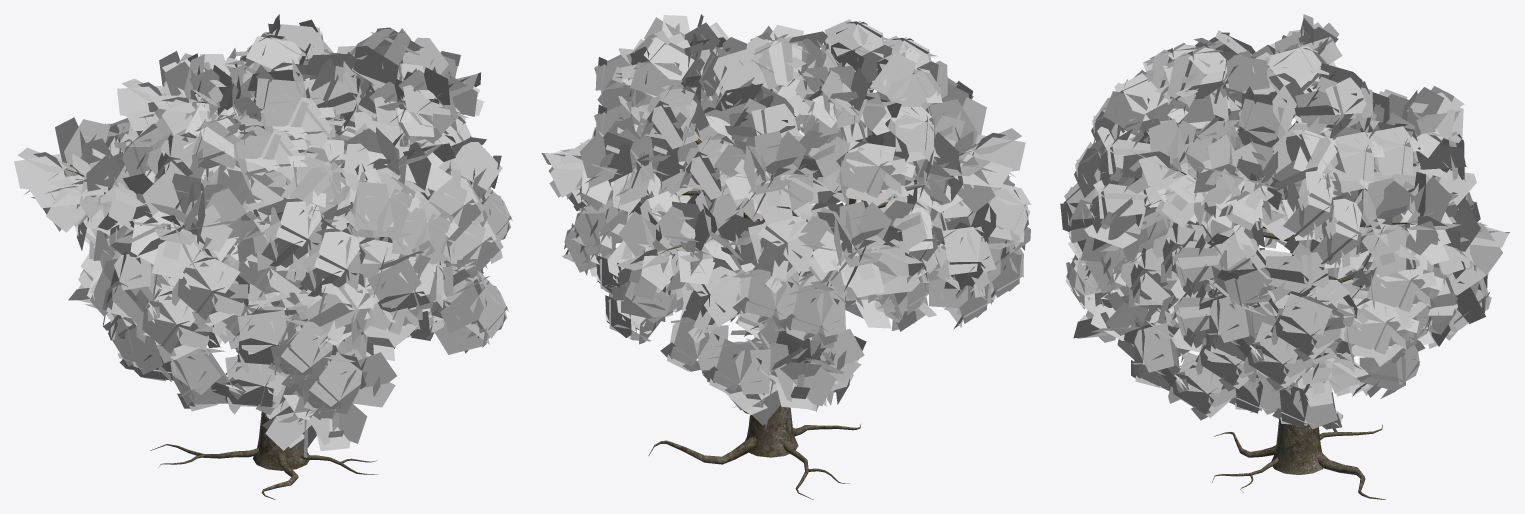
File: SM_tree_a.fbx
3 views of the same model, side by side, from view 1: azimuth 30°, elevation 25°; view 2: azimuth 150°, elevation 25°; view 3: azimuth 270°, elevation 25° (orthographic). The views are drawn at different scales.
Parts seen in each view (by area): view 1: SM_tree_a_LOD0; view 2: SM_tree_a_LOD0; view 3: SM_tree_a_LOD0.
Part boxes in pixels (x1,y1,x2,y2): SM_tree_a_LOD0: (14, 14, 512, 499); SM_tree_a_LOD0: (541, 14, 1031, 499); SM_tree_a_LOD0: (1060, 14, 1509, 499).
Size of what is drawn, in the model's own units: 2657 by 2542 by 2496.
